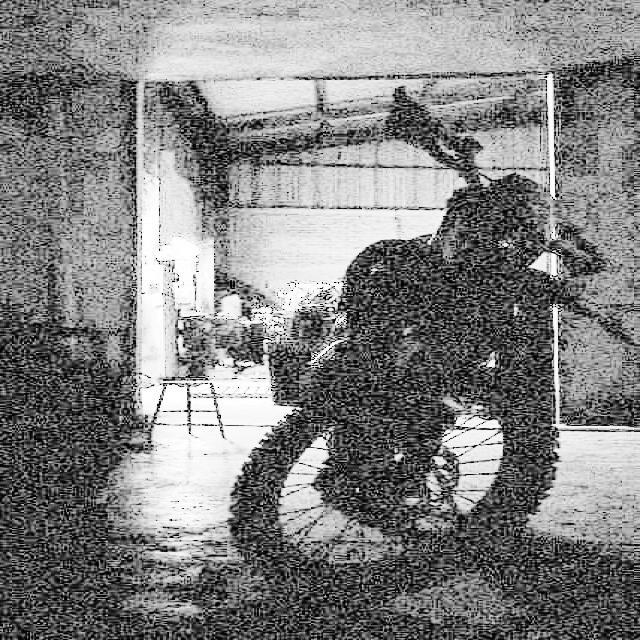Motorcycle: (240, 129, 640, 602)
